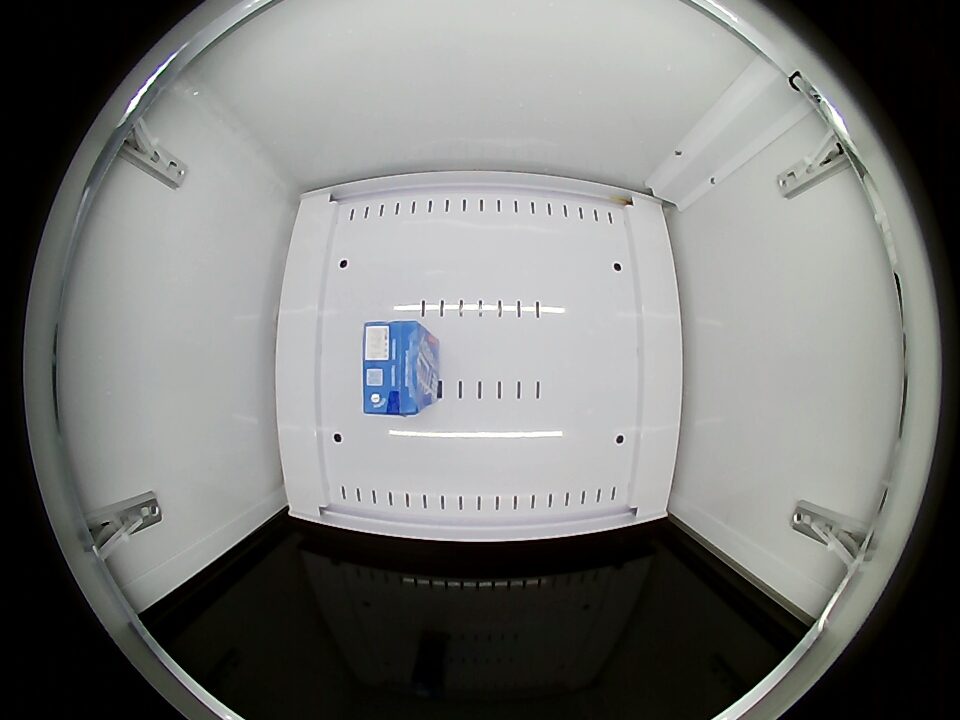weitanai: (362, 320, 433, 416)
